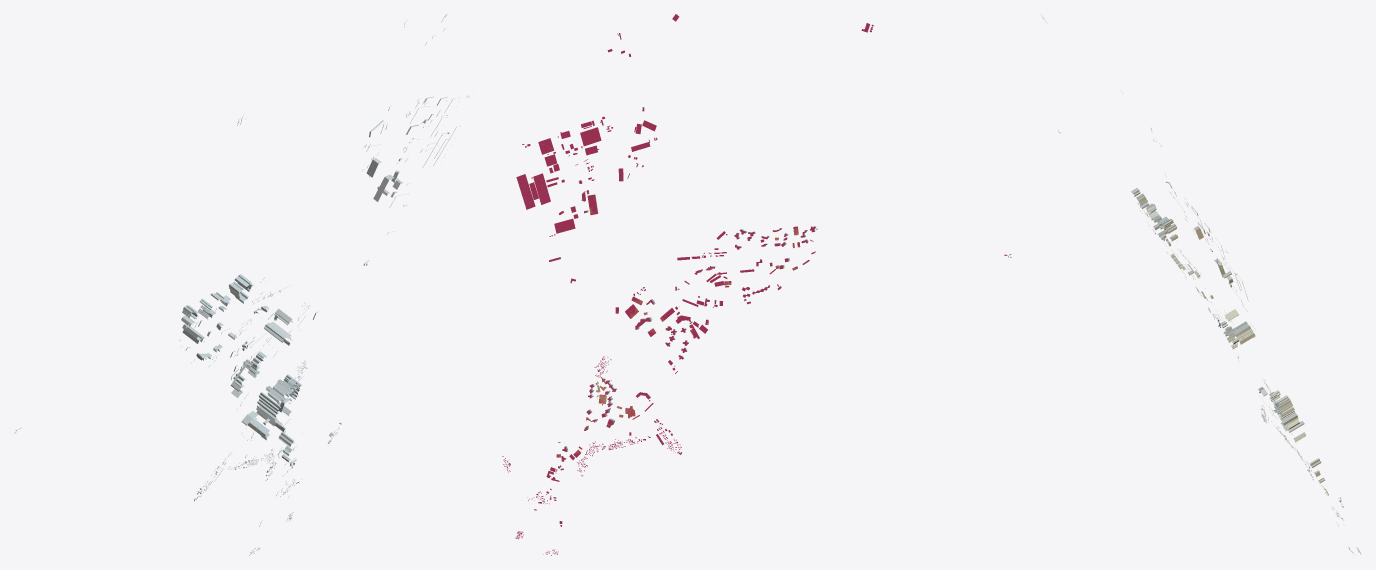
The picture shows the model from 3 angles, left to right: view 1: azimuth 30°, elevation 25°; view 2: azimuth 150°, elevation 25°; view 3: azimuth 270°, elevation 25°; orthographic projection. The views are drawn at different scales.
Parts seen in each view (by area): view 1: geometry_0; view 2: geometry_0; view 3: geometry_0.
Boxes of the visible parts, <box> form: geometry_0: <box>14,14,473,555</box>; geometry_0: <box>502,14,1011,555</box>; geometry_0: <box>1040,14,1361,554</box>.
Bounding box in the file's own units: 4256 × 4614 × 2924.
